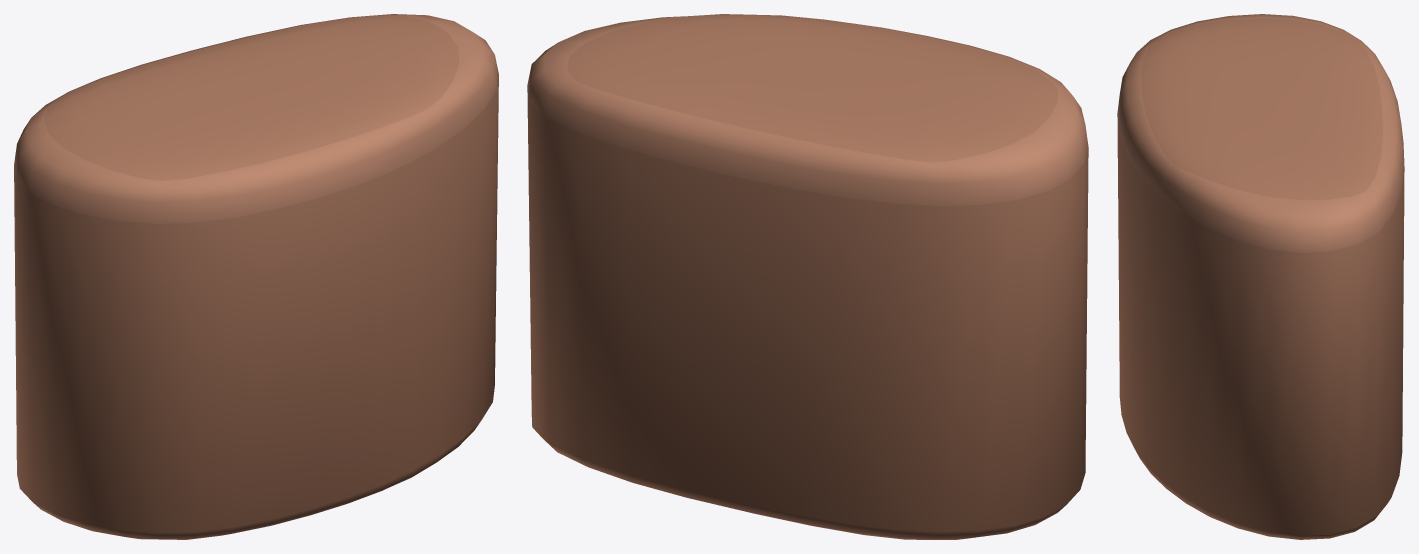
File: big_stone_3_brown.fbx
The picture shows the model from 3 angles, left to right: view 1: azimuth 30°, elevation 25°; view 2: azimuth 150°, elevation 25°; view 3: azimuth 270°, elevation 25°; orthographic projection. The views are drawn at different scales.
Parts seen in each view (by area): view 1: big_stone_3_brown; view 2: big_stone_3_brown; view 3: big_stone_3_brown.
Part boxes in pixels (<box>): big_stone_3_brown: <box>14,14,498,539</box>; big_stone_3_brown: <box>527,14,1088,539</box>; big_stone_3_brown: <box>1117,14,1404,539</box>.
Size of the model in its own units: 269 by 200 by 151.
